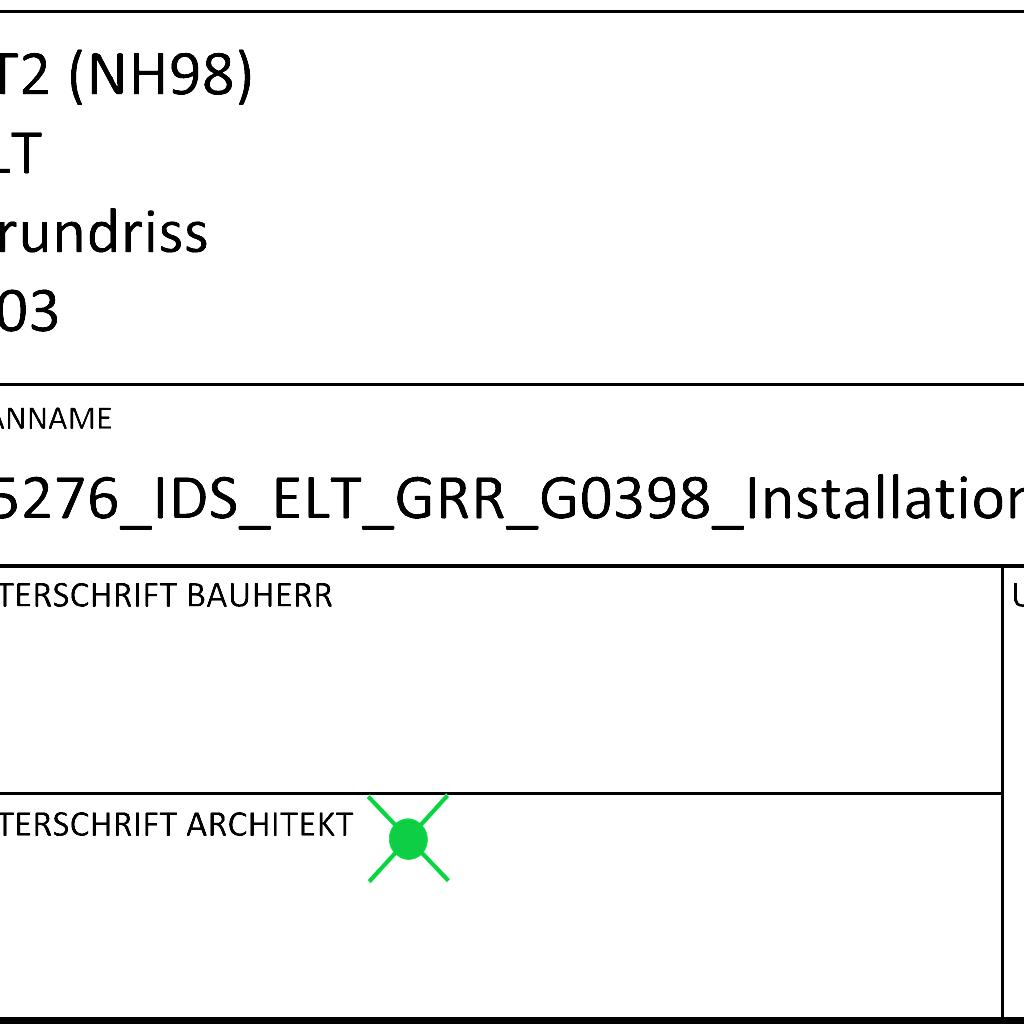Notlichtbaustein_in_Allgemeinbeleuchtug_engebaut_Einbau_(1UG_und_2UG_Aufbauvaria: (358, 789, 461, 889)
